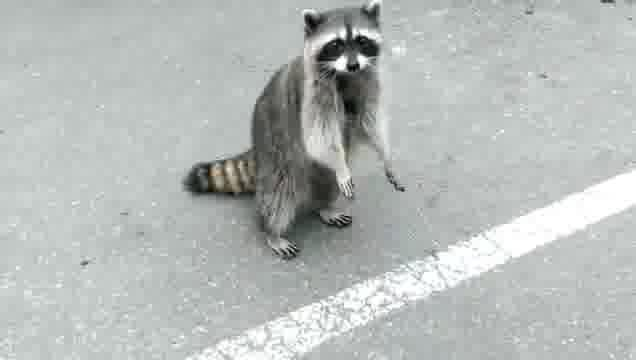raccoon: (186, 0, 405, 260)
